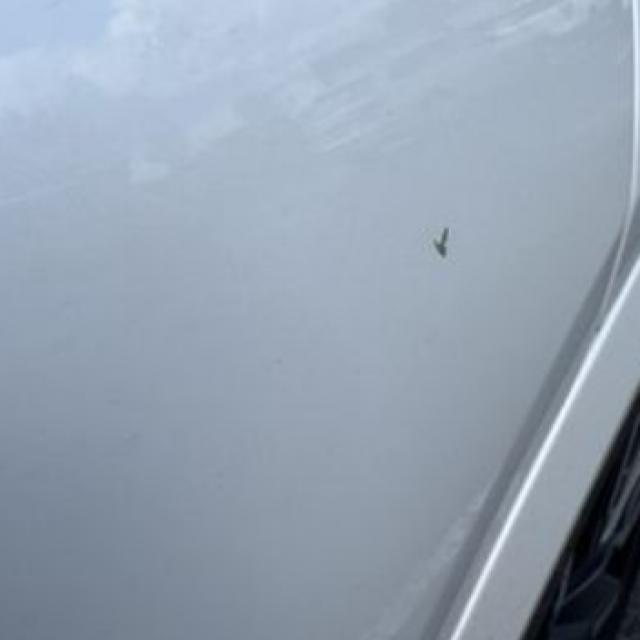dents: (408, 214, 491, 289)
